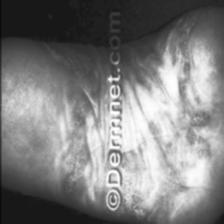Non-Cancerous Skin Condition: (126, 8, 217, 133), (16, 39, 103, 107), (120, 183, 163, 224), (56, 157, 83, 210)
